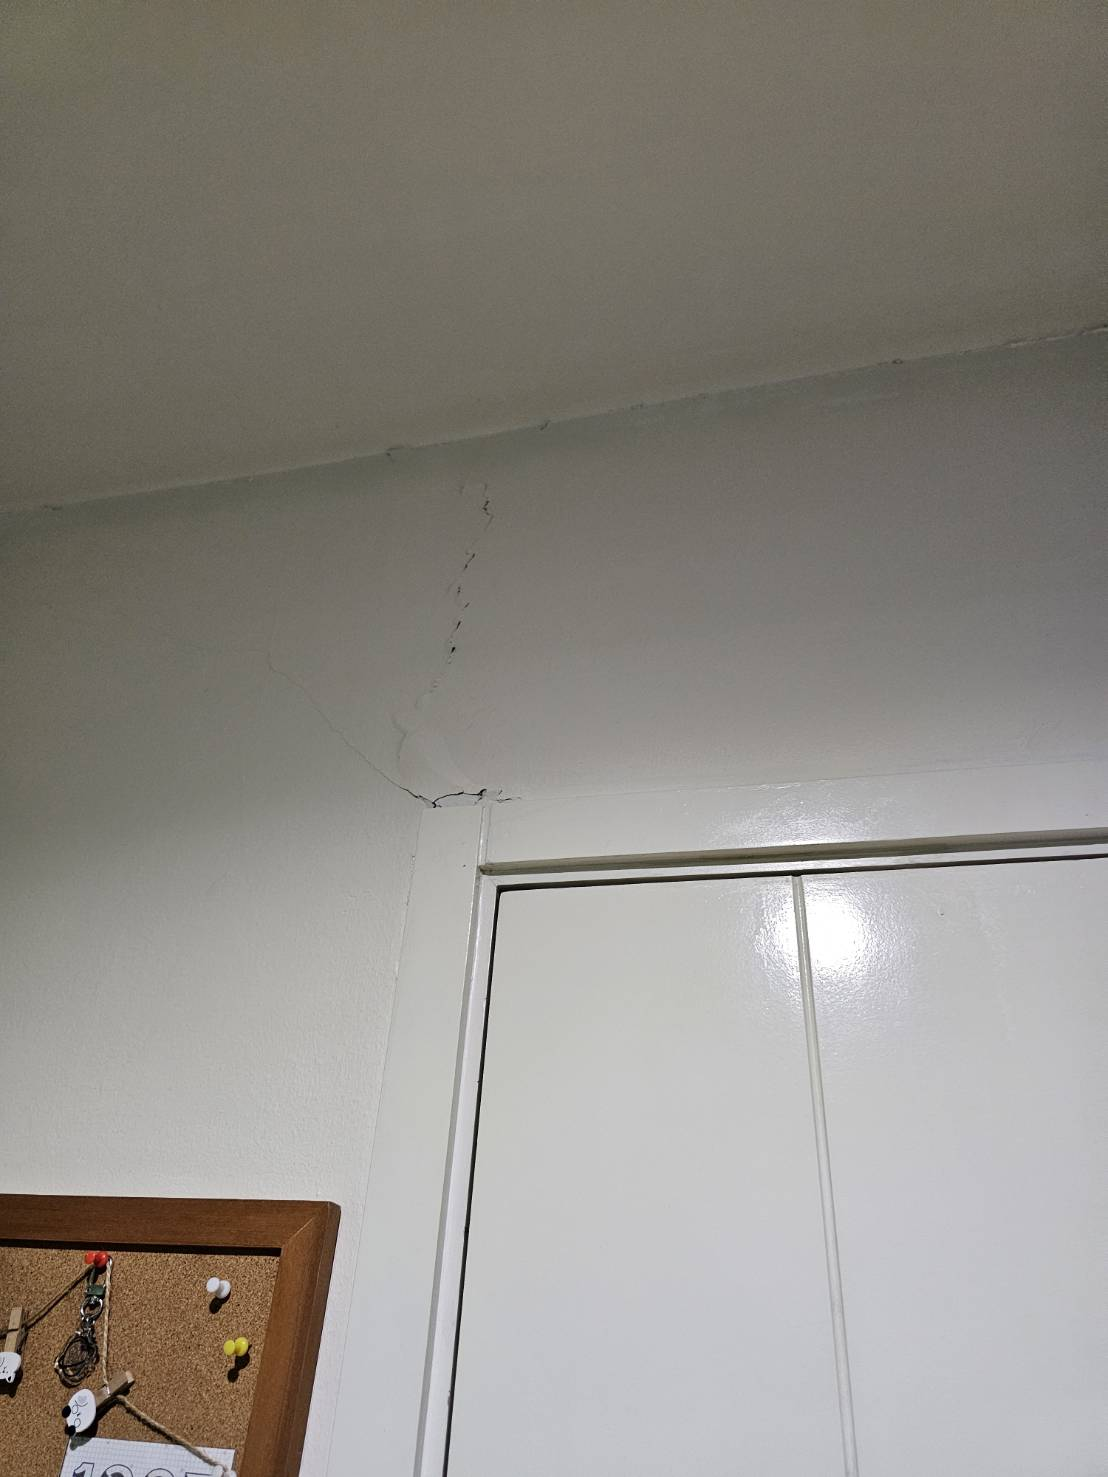Low: (379, 443, 592, 805)
